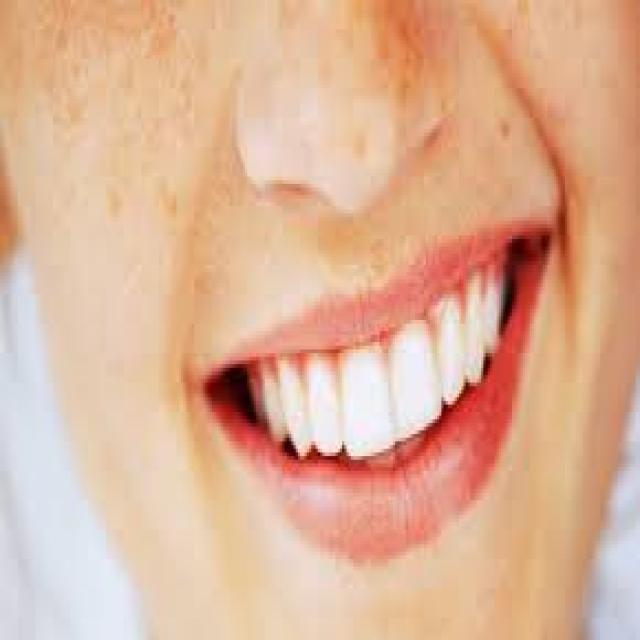tooth: (388, 328, 442, 430), (349, 346, 384, 456), (311, 357, 342, 452), (274, 353, 302, 441), (446, 313, 466, 401), (464, 287, 486, 364), (485, 272, 510, 328), (262, 379, 282, 438)
